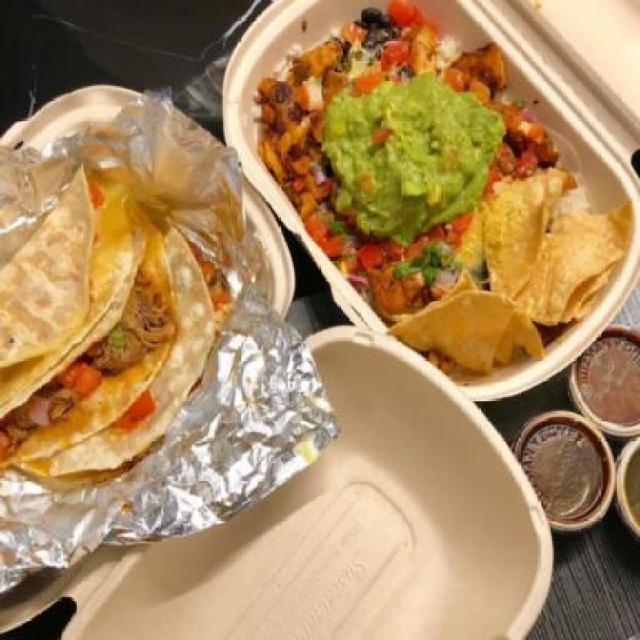guacamole: (313, 64, 516, 244)
nachos: (383, 163, 635, 383)
